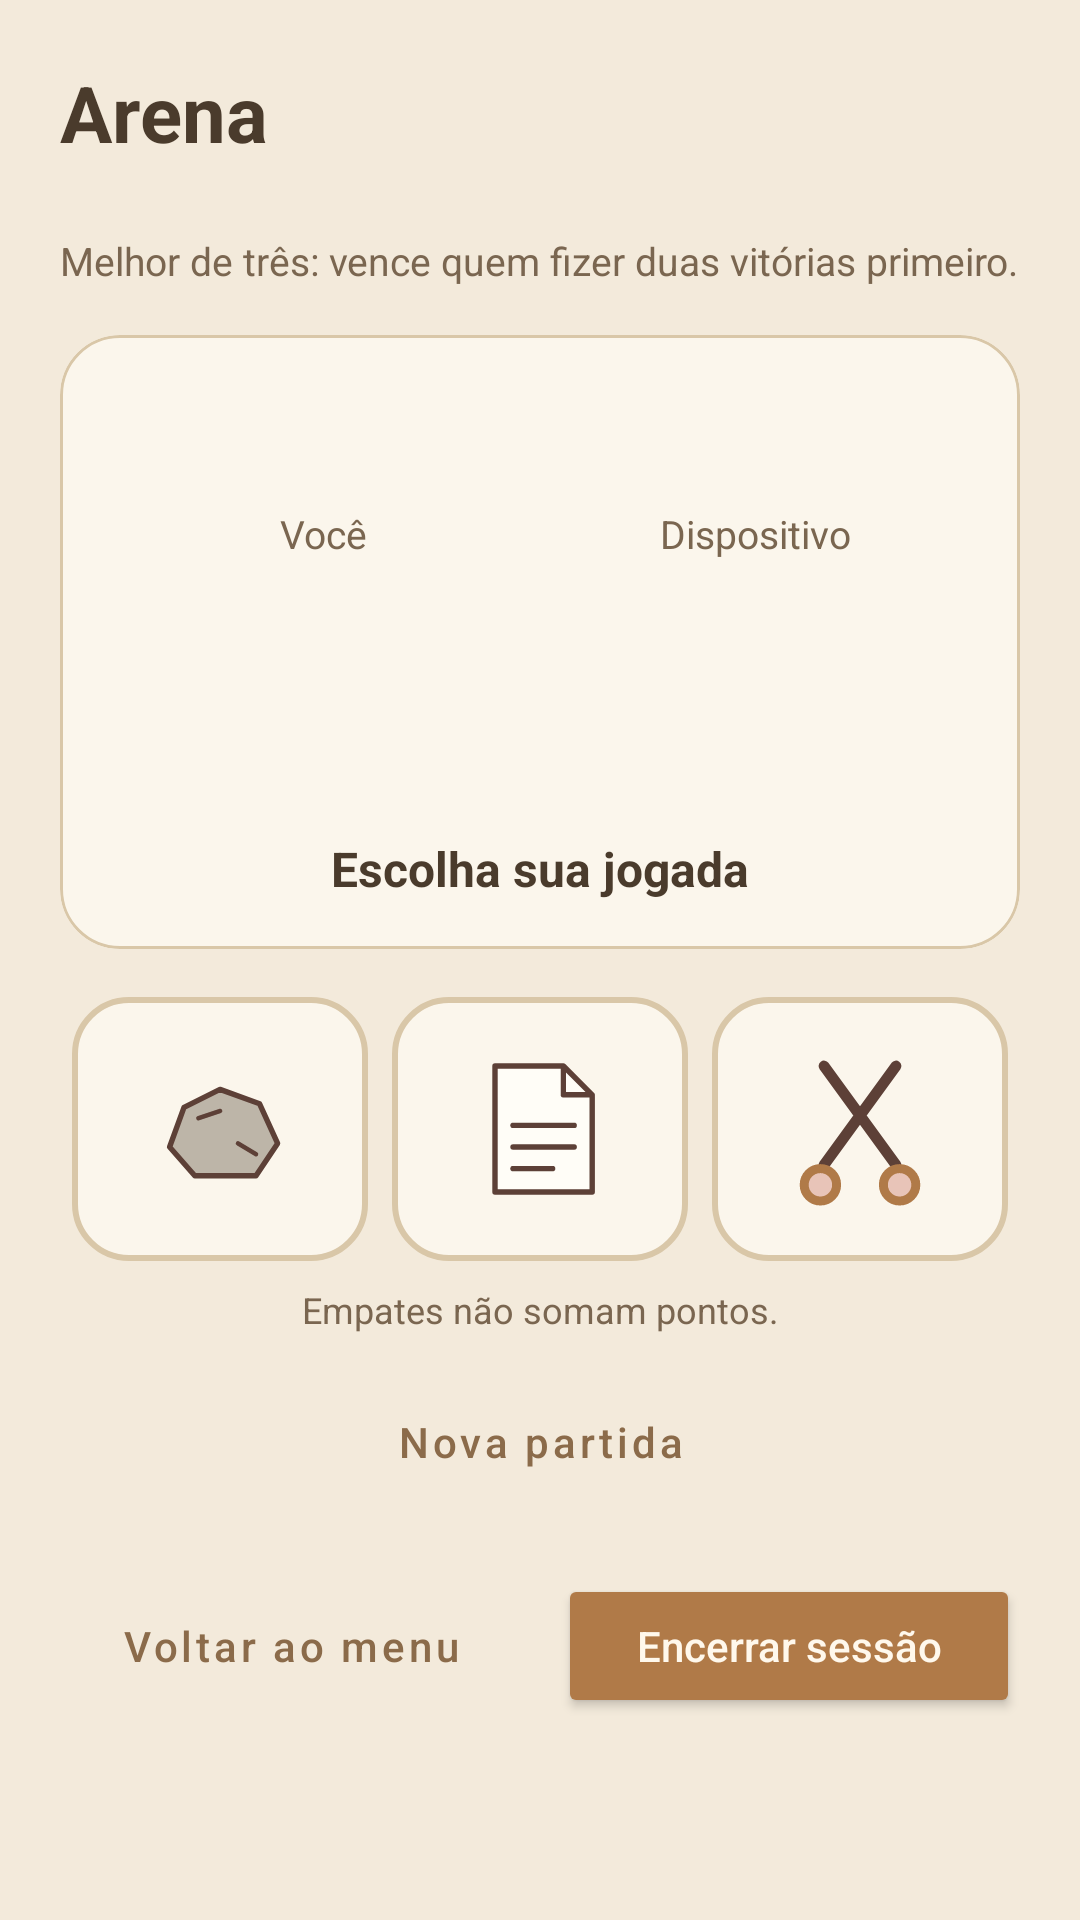

Icon bounding boxes for this 1080px x 1920px phone screenshot, format (x1, y1, x2, y2):
Jogar papel: (392, 997, 688, 1261)
Jogar pedra: (72, 997, 368, 1261)
Jogar tesoura: (712, 997, 1008, 1261)
